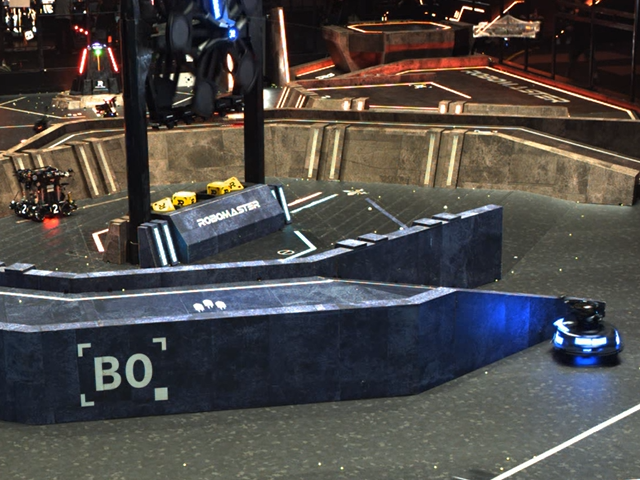rm: (547, 294, 625, 367), (13, 164, 79, 221), (98, 93, 120, 117), (28, 112, 52, 130)
